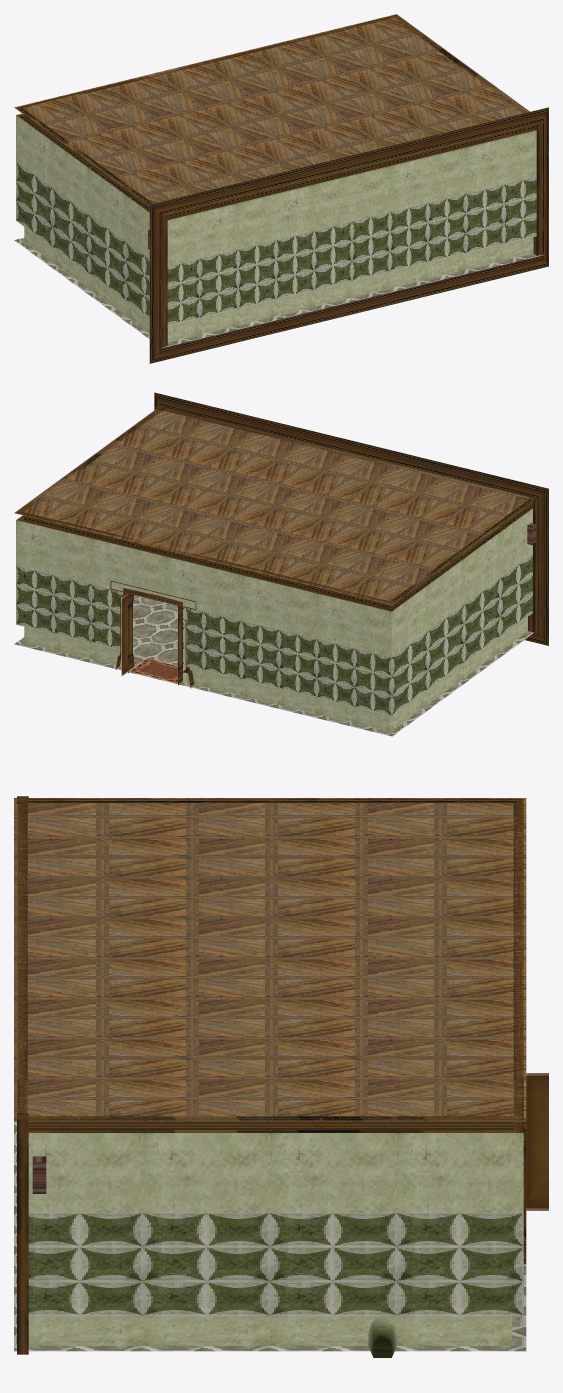
The model's file is room_00.glb.
3 views of the same model, one above another, from view 1: azimuth 30°, elevation 25°; view 2: azimuth 150°, elevation 25°; view 3: azimuth 270°, elevation 25° (orthographic). The views are drawn at different scales.
Parts seen in each view (by area): view 1: room_00; view 2: room_00; view 3: room_00.
Part boxes in pixels (x1,y1,x2,y2): room_00: (14, 14, 548, 363); room_00: (14, 392, 548, 736); room_00: (14, 796, 548, 1357).
Bounding box in the file's own units: 1590 × 600 × 1055.
29 materials, 29 textured.
